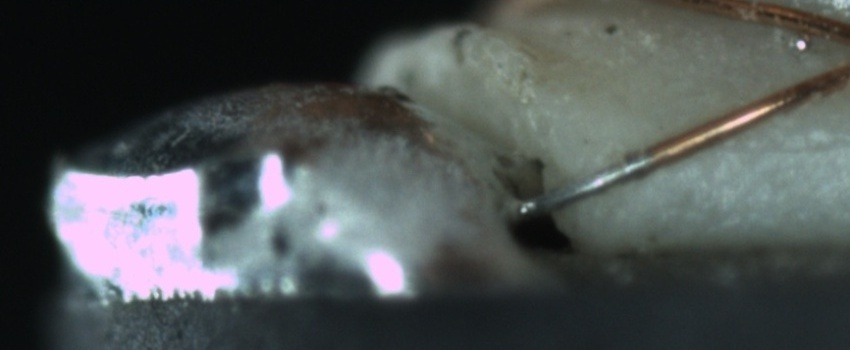DL: (707, 114, 850, 176)
TS: (519, 151, 655, 217)
